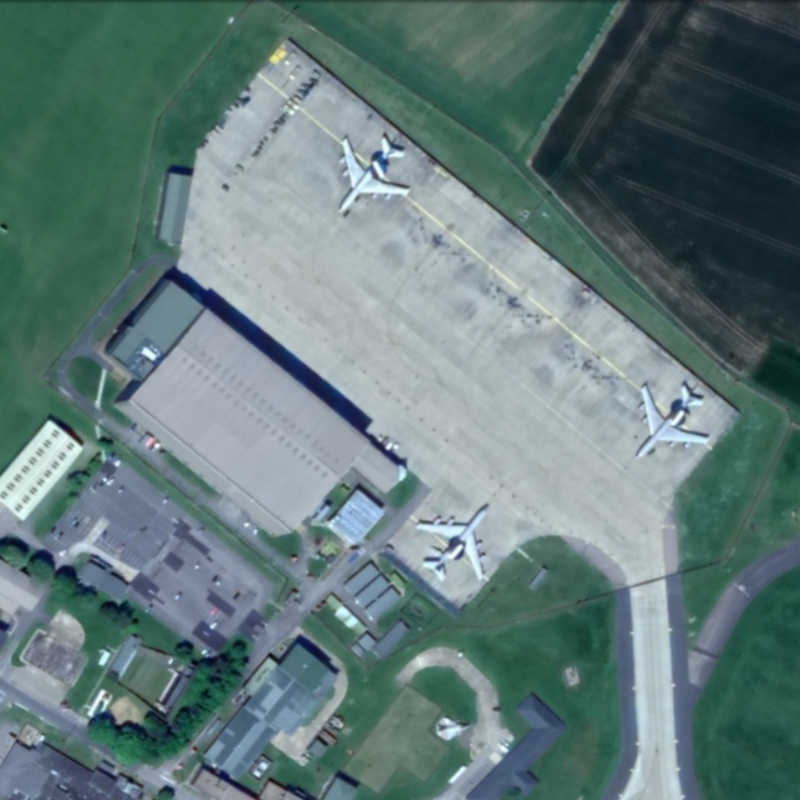A7: (408, 488, 505, 592), (332, 122, 423, 221), (632, 371, 719, 468)
